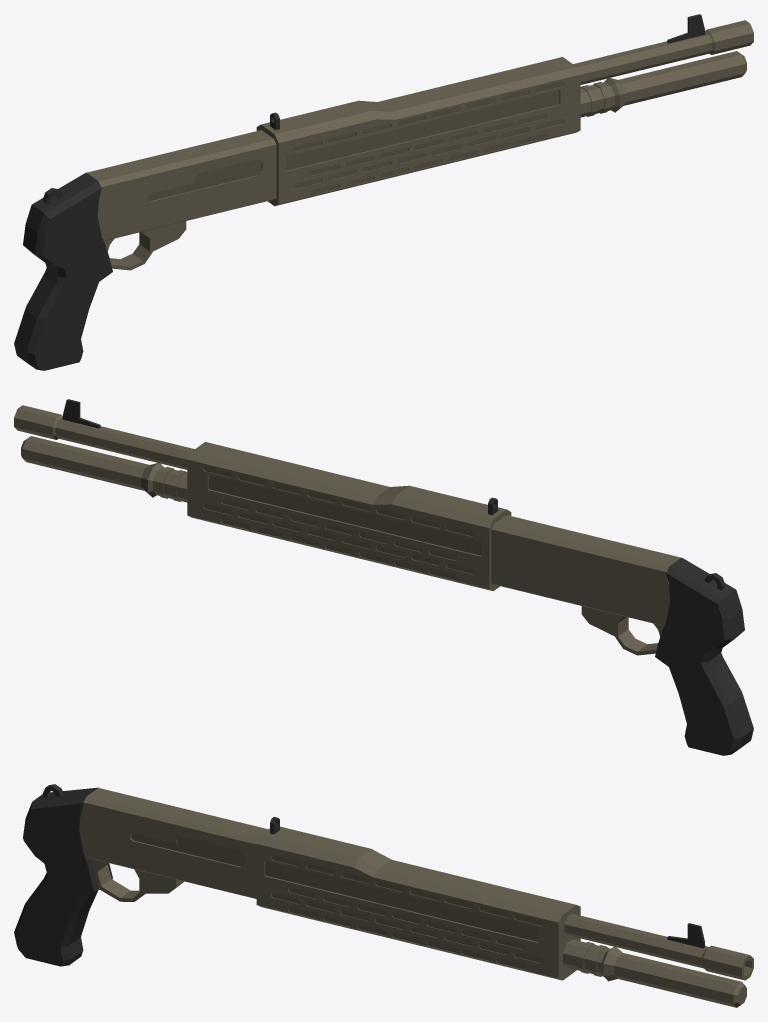
Rendered from Shotgun5_03.fbx.
The picture shows the model from 3 angles, top to bottom: view 1: azimuth 30°, elevation 25°; view 2: azimuth 150°, elevation 25°; view 3: azimuth 330°, elevation 25°; orthographic projection.
Visible parts, largest first — view 1: Shotgun5_03; view 2: Shotgun5_03; view 3: Shotgun5_03.
Boxes of the visible parts, box(x1,y1,x2,y2) form: Shotgun5_03: box(14, 14, 753, 370); Shotgun5_03: box(14, 399, 753, 755); Shotgun5_03: box(14, 784, 753, 1007).
Bounding box in the file's own units: 0.8358 × 0.2102 × 0.0437.
